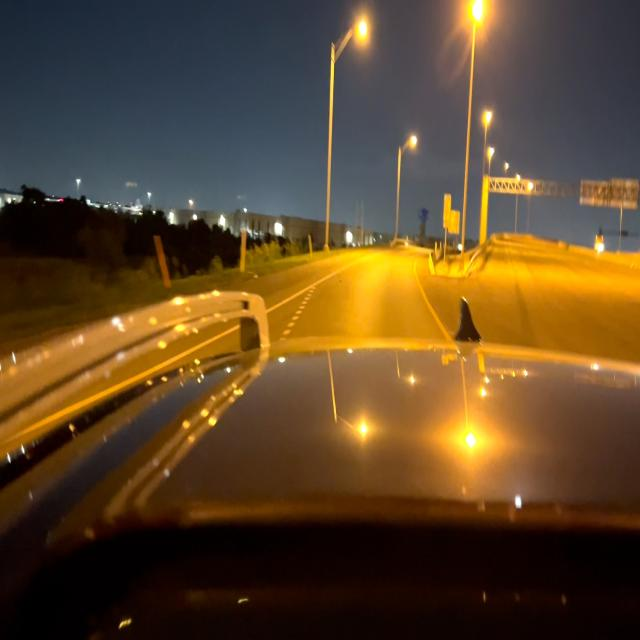back-of-sign: (611, 177, 637, 207), (581, 180, 609, 206), (444, 193, 450, 229), (451, 210, 459, 234)
